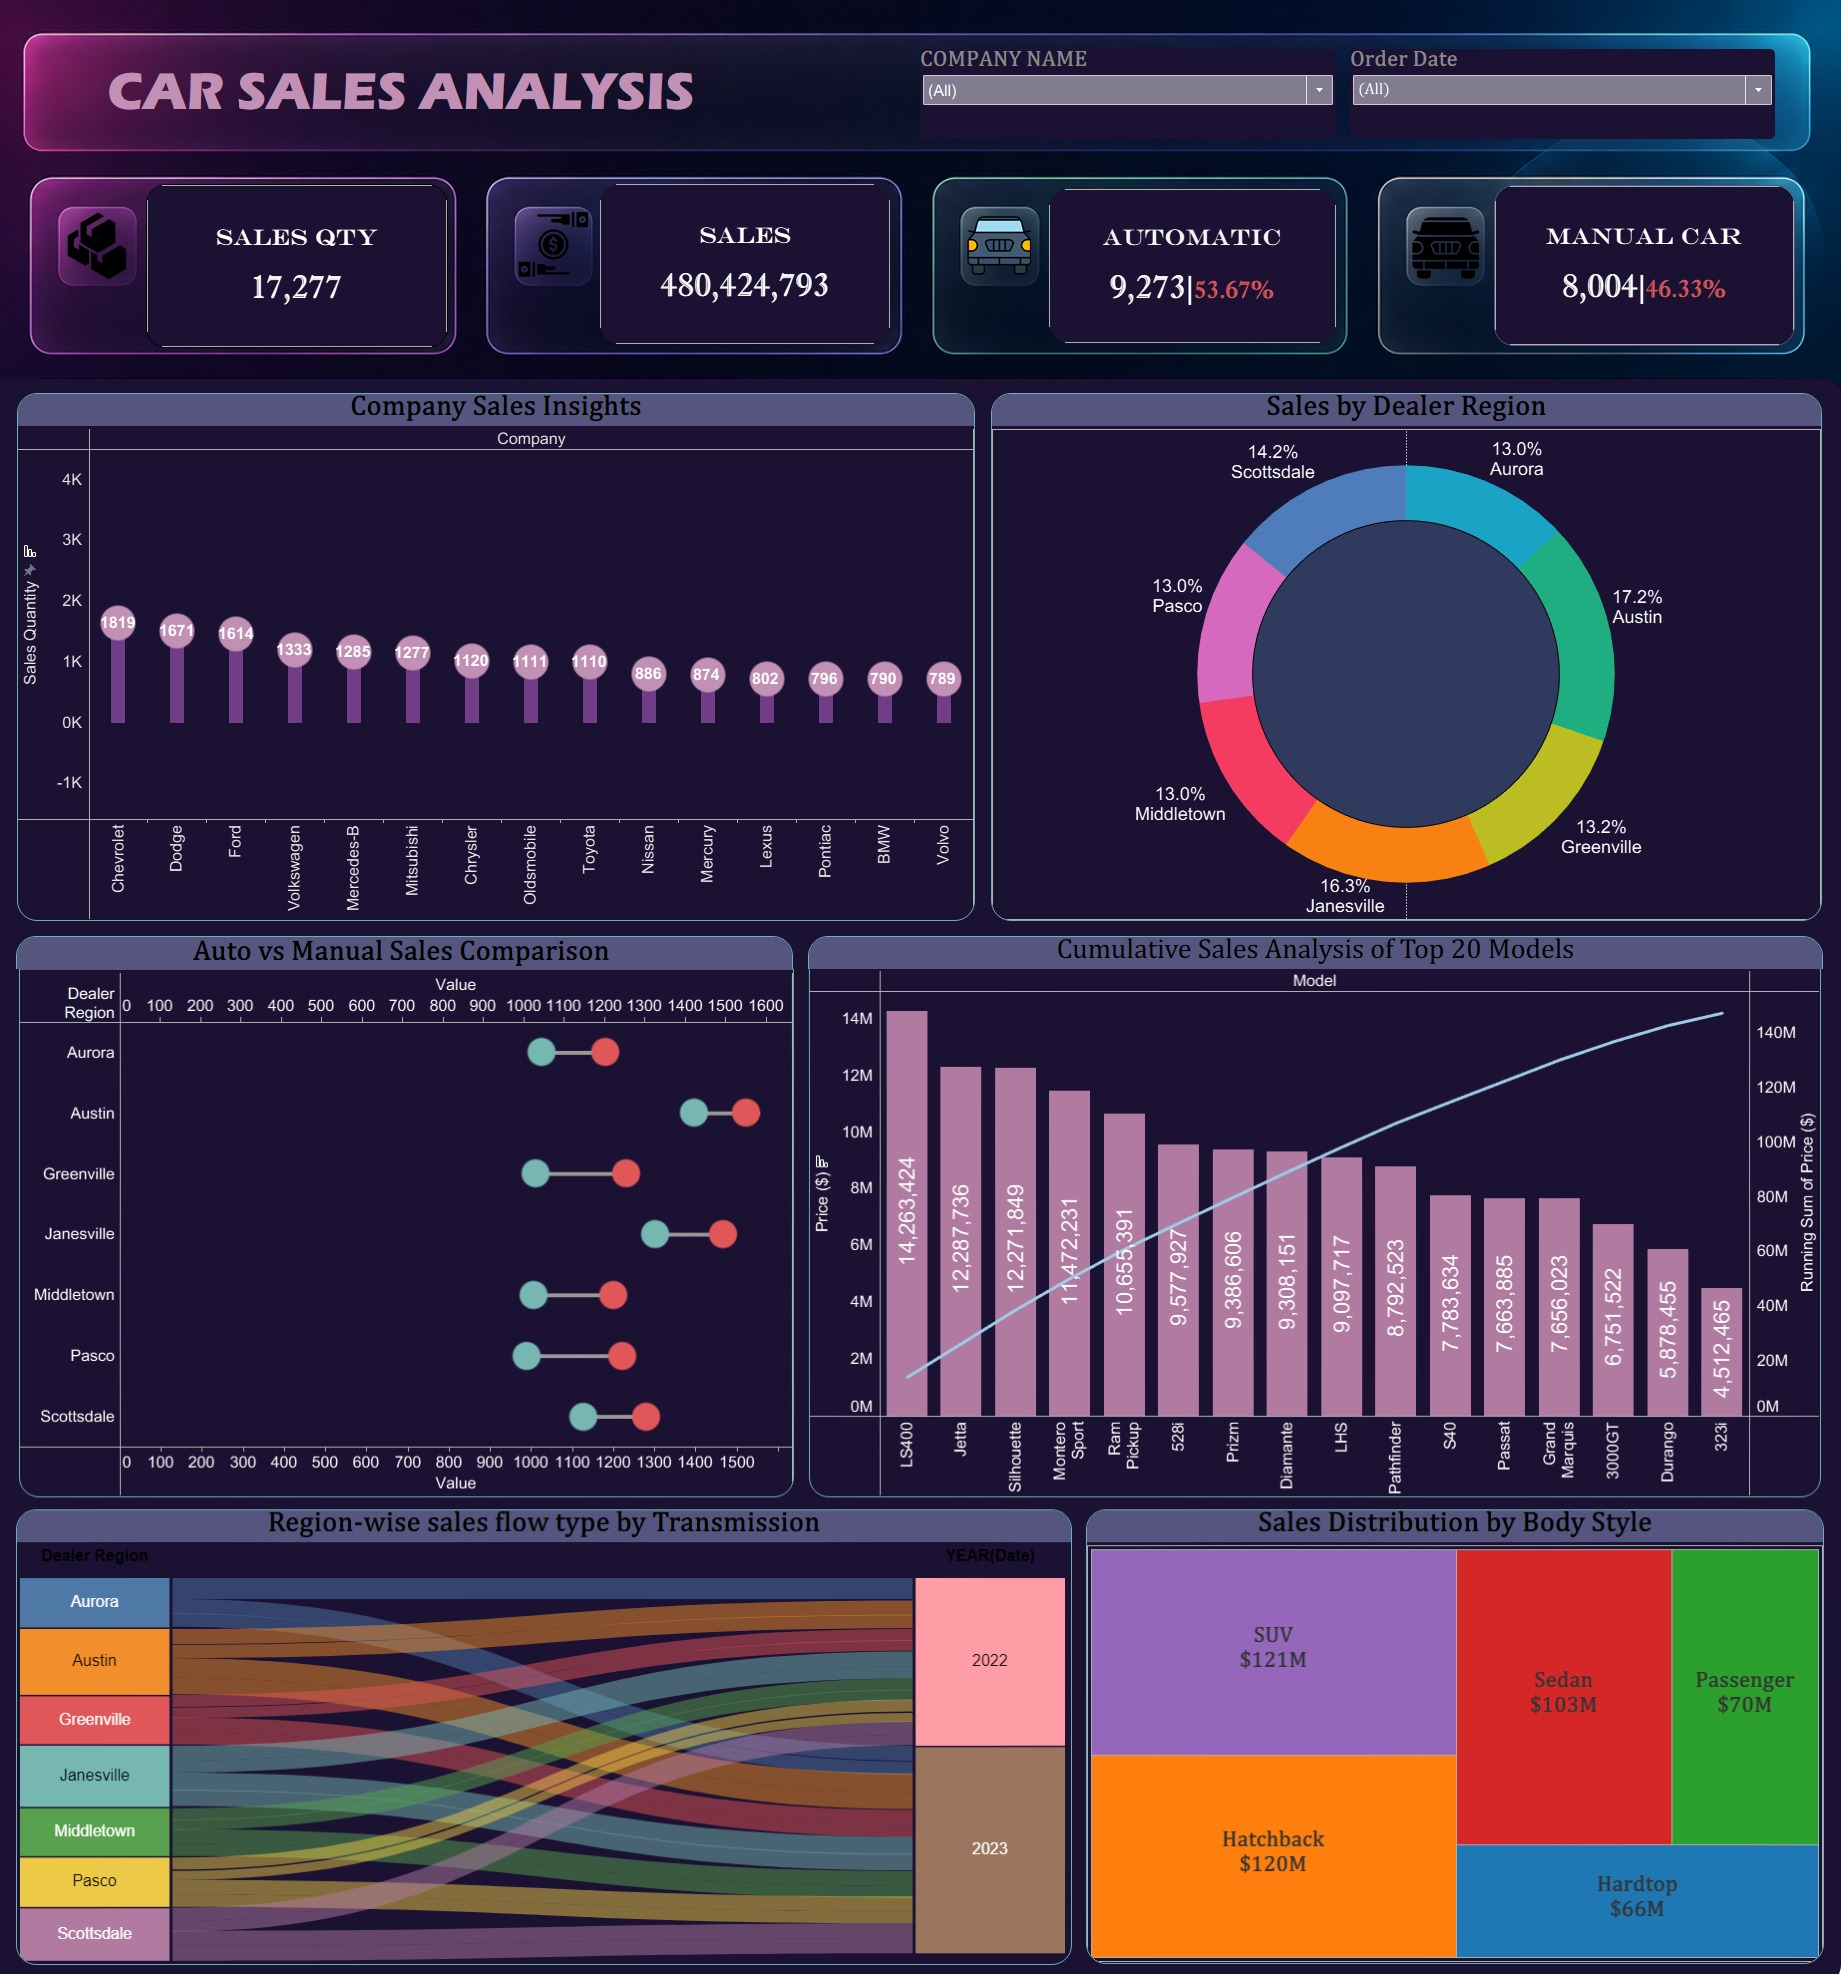

This screenshot's page, from the dashboard's own definition file:
{"tool":"tableau","page":{"name":"Dashboard 1","canvas":[1870,2000],"ordinal":0},"visuals":[{"type":"worksheet","title":"Sheet 14","mark":"Automatic","box":[1345,46,526,9]},{"type":"filter","title":"Sheet 13","param":"[federated.0ip6bgc1bh93w311xabrd0jfgyjs].[none:Company:nk]","box":[941,68,416,90]},{"type":"filter","title":"Sheet 14","param":"[federated.0ip6bgc1bh93w311xabrd0jfgyjs].[my:Date:ok]","box":[1371,68,425,90]},{"type":"worksheet","title":"Sheet 13","mark":"Automatic","box":[914,78,456,64]},{"type":"worksheet","title":"Sales Qty","mark":"Automatic","box":[167,203,302,164]},{"type":"worksheet","title":"Sales Qty 2","mark":"Automatic","box":[621,203,290,160]},{"type":"worksheet","title":"Manual","mark":"Automatic","box":[1515,204,301,161]},{"type":"worksheet","title":"Auto","mark":"Automatic","box":[1070,208,287,154]},{"type":"image","param":"C:/Users/Admin/Downloads/buying.png","box":[537,226,74,81]},{"type":"image","param":"C:/Users/Admin/Downloads/product.png","box":[82,229,71,77]},{"type":"image","param":"C:/Users/Admin/Downloads/car (1).png","box":[988,232,69,64]},{"type":"image","param":"C:/Users/Admin/Downloads/car.png","box":[1433,233,95,67]},{"type":"blank","box":[11,398,1853,1610]},{"type":"worksheet","title":"COmpany sales Insights","mark":"Automatic","rows":["Calculation_0959333163921408","Calculation_0959333163921408"],"cols":["Company"],"box":[38,412,958,528]},{"type":"worksheet","title":"Sales by Dealer Region","mark":"Pie","cols":["Calculation_1431299333320712","Calculation_1431299333320712"],"box":[1012,412,831,528]},{"type":"worksheet","title":"Auto vs Manual Sales Comparison ","mark":"Circle","rows":["Dealer_Region"],"box":[37,955,777,564]},{"type":"worksheet","title":"Top 20  Companies by Total Sales","mark":"Automatic","rows":["Price ($)","Price ($)"],"cols":["Model"],"box":[829,955,1015,564]},{"type":"worksheet","title":"Region-wise sales flow type by Transmission","box":[34,1531,1059,457]},{"type":"worksheet","title":"Sheet 12","mark":"Automatic","box":[1107,1531,740,456]}]}

Visuals, with their boxes in screenshot pixels (x1, y1, x2, y2), scaled from the page's 1870x2000 canvas onto the 1841x1974 screenshot:
"Sheet 14" worksheet: l=1324, t=45, r=1840, b=54
"Sheet 13" filter: l=926, t=67, r=1336, b=156
"Sheet 14" filter: l=1350, t=67, r=1768, b=156
"Sheet 13" worksheet: l=900, t=77, r=1349, b=140
"Sales Qty" worksheet: l=164, t=200, r=462, b=362
"Sales Qty 2" worksheet: l=611, t=200, r=897, b=358
"Manual" worksheet: l=1492, t=201, r=1788, b=360
"Auto" worksheet: l=1053, t=205, r=1336, b=357
image: l=529, t=223, r=602, b=303
image: l=81, t=226, r=151, b=302
image: l=973, t=229, r=1041, b=292
image: l=1411, t=230, r=1504, b=296
blank: l=11, t=393, r=1835, b=1973
"COmpany sales Insights" worksheet: l=37, t=407, r=981, b=928
"Sales by Dealer Region" worksheet (Pie marks): l=996, t=407, r=1814, b=928
"Auto vs Manual Sales Comparison " worksheet (Circle marks): l=36, t=943, r=801, b=1499
"Top 20  Companies by Total Sales" worksheet: l=816, t=943, r=1815, b=1499
"Region-wise sales flow type by Transmission" worksheet: l=33, t=1511, r=1076, b=1962
"Sheet 12" worksheet: l=1090, t=1511, r=1818, b=1961
